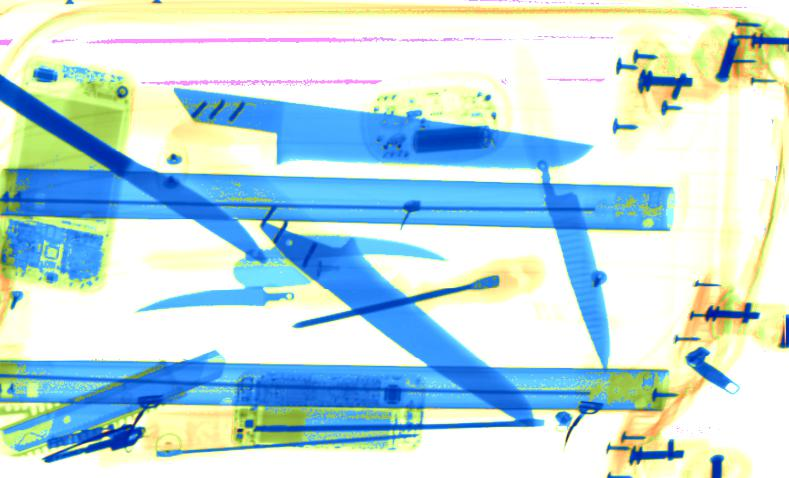Knife: (258, 221, 535, 428), (1, 74, 268, 263), (172, 88, 593, 170), (536, 160, 612, 366), (239, 234, 452, 264), (131, 286, 297, 313)
